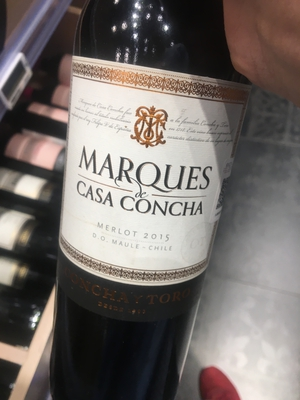marques de casa concha merlot: (48, 13, 263, 379)
